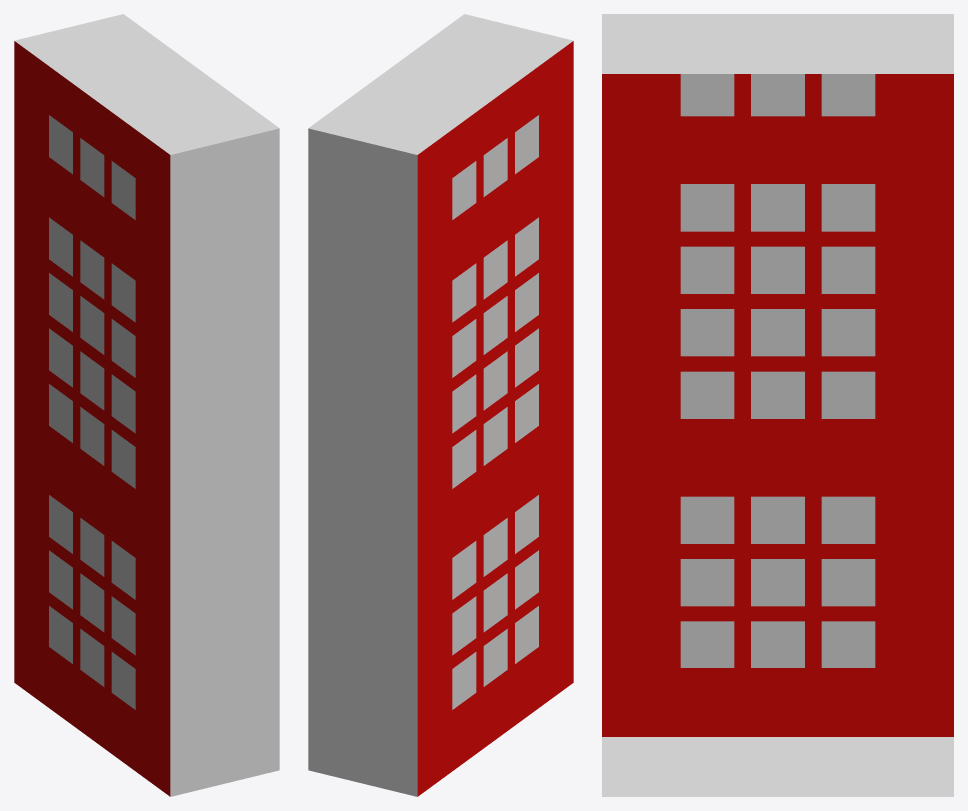
The model's file is Elevator_button_inside.fbx.
The picture shows the model from 3 angles, left to right: view 1: azimuth 30°, elevation 25°; view 2: azimuth 150°, elevation 25°; view 3: azimuth 270°, elevation 25°; orthographic projection. The views are drawn at different scales.
Parts seen in each view (by area): view 1: button2; view 2: button2; view 3: button2.
Part boxes in pixels (x1,y1,x2,y2): button2: (14,14,279,796); button2: (308,14,573,796); button2: (602,14,953,796).
Size of the model in its own units: 17.63 by 98.91 by 43.65.
